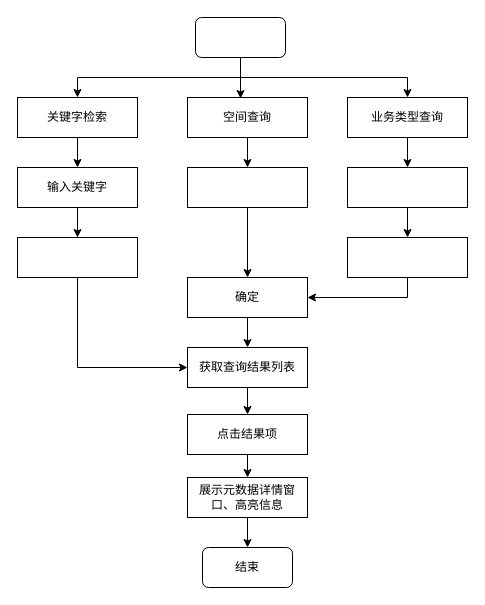
Image size: 485x605. Some labels were removed from this diagram. The shapes that lost their labels are listed below. From the top down, each one's centre as x and y in pixels, then its label:
the point at 240,37: 开始
the point at 247,187: 绘制空间范围
the point at 407,187: 选择元数据类型
the point at 77,257: 搜索
the point at 407,257: 输入检索字段信息
